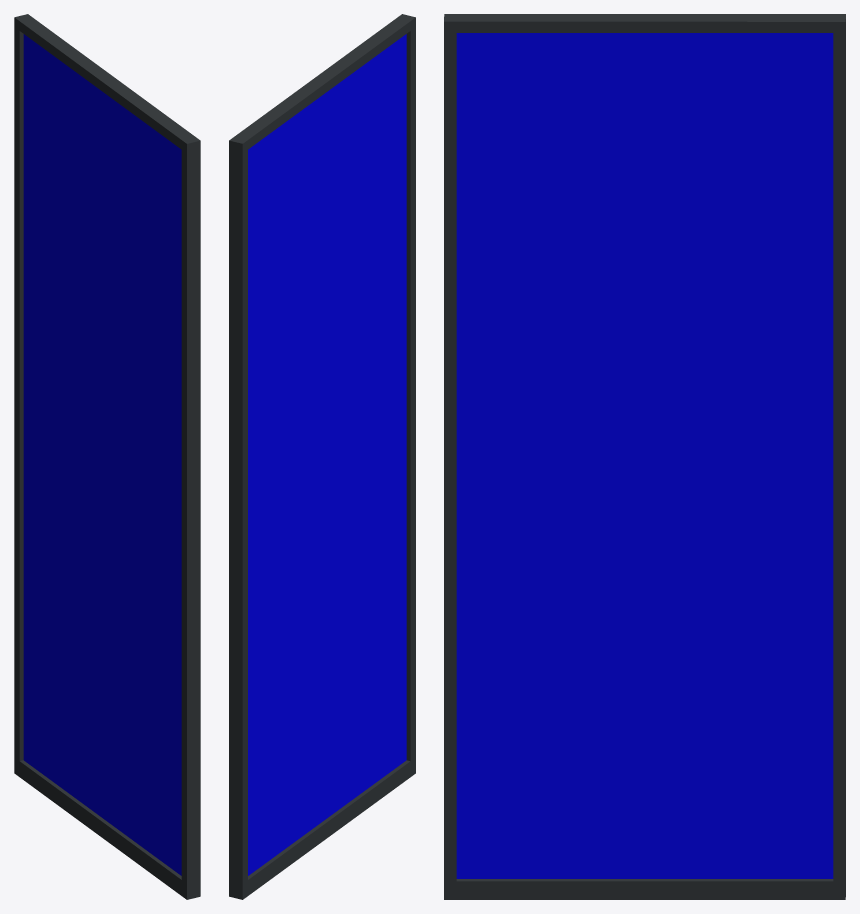
File: MainDoor1aTransformed2.fbx
The picture shows the model from 3 angles, left to right: view 1: azimuth 30°, elevation 25°; view 2: azimuth 150°, elevation 25°; view 3: azimuth 270°, elevation 25°; orthographic projection. The views are drawn at different scales.
Parts seen in each view (by area): view 1: Glazed_Internal Double Doors:DT-10:11619207 frame; view 2: Glazed_Internal Double Doors:DT-10:11619207 frame; view 3: Glazed_Internal Double Doors:DT-10:11619207 frame.
Part boxes in pixels (box(x1,y1,x2,y2)): Glazed_Internal Double Doors:DT-10:11619207 frame: box(14, 14, 200, 899); Glazed_Internal Double Doors:DT-10:11619207 frame: box(229, 14, 415, 899); Glazed_Internal Double Doors:DT-10:11619207 frame: box(444, 14, 845, 899).
Bounding box in the file's own units: 0.0451 × 2.35 × 0.9742.
